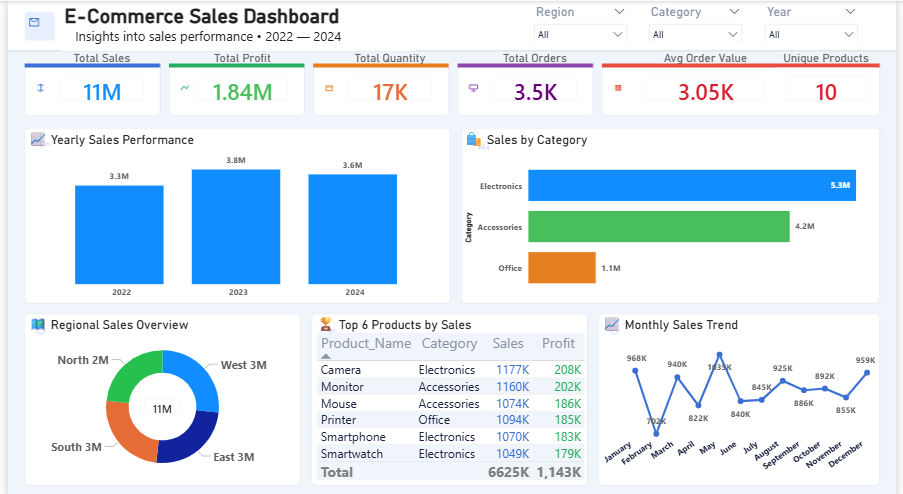

The page's visual inventory and layout, read from the dashboard file:
{"tool":"powerbi","page":{"name":"Page 1","canvas":[1280,720],"ordinal":0},"visuals":[{"type":"cardVisual","title":"Total Profit","fields":{"Data":["Sum(ecommerce_sales_data.Profit)"]},"box":[254.9,72,165.6,89.3],"z":0},{"type":"cardVisual","title":"Total Quantity","fields":{"Data":["Sum(ecommerce_sales_data.Quantity)"]},"box":[472.3,72,155.5,89.3],"z":1000},{"type":"cardVisual","title":"Total Orders","fields":{"Data":["CountNonNull(ecommerce_sales_data.Order Date)"]},"box":[681.1,72,155.5,89.3],"z":2000},{"type":"cardVisual","title":"Unique Products ","fields":{"Data":["Count(ecommerce_sales_data.Product Name)"]},"box":[1101.6,72,152.6,89.3],"z":3000},{"type":"cardVisual","title":"Avg Order Value","fields":{"Data":["ecommerce_sales_data.Avg Order Value"]},"box":[901.4,72,205.9,89.3],"z":4000},{"type":"clusteredColumnChart","title":"📈 Yearly Sales Performance","fields":{"Y":["Sum(ecommerce_sales_data.Sales)"],"Category":["ecommerce_sales_data.Year.1"]},"box":[24.5,184.3,614.9,253.4],"z":5000},{"type":"clusteredBarChart","title":"🛍️ Sales by Category","fields":{"Y":["Sum(ecommerce_sales_data.Sales)"],"Category":["ecommerce_sales_data.Category"]},"box":[652.3,184.3,601.9,253.4],"z":6000},{"type":"tableEx","title":"🏆 Top 6 Products by Sales","fields":{"Values":["ecommerce_sales_data.Product Name","ecommerce_sales_data.Category","Sum(ecommerce_sales_data.Sales)","Sum(ecommerce_sales_data.Profit)"]},"box":[439.2,450.7,397.4,244.8],"z":7000},{"type":"group","id":"g1","title":"Group 1","box":[24.5,450.7,396,244.8],"z":8000},{"type":"donutChart","title":" 🗺️ Regional Sales Overview","fields":{"Category":["ecommerce_sales_data.Region"],"Y":["Sum(ecommerce_sales_data.Sales)"]},"box":[24.5,450.7,396,244.8],"z":9000,"group":"g1"},{"type":"cardVisual","fields":{"Data":["Sum(ecommerce_sales_data.Sales)"]},"box":[178.6,555.8,87.8,57.6],"z":9000},{"type":"lineChart","title":" 📈 Monthly Sales Trend","fields":{"Category":["ecommerce_sales_data.Order Date.Variation.Date Hierarchy.Month"],"Y":["Sum(ecommerce_sales_data.Sales)"]},"box":[851,450.7,403.2,244.8],"z":10000},{"type":"textbox","box":[76.3,0,511.2,72],"z":11000},{"type":"slicer","fields":{"Values":["ecommerce_sales_data.Region"]},"box":[747.4,0,154.1,59],"z":12000},{"type":"slicer","fields":{"Values":["ecommerce_sales_data.Category"]},"box":[913,0,154.1,59],"z":13000},{"type":"slicer","fields":{"Values":["ecommerce_sales_data.Year"]},"box":[1080,0,154.1,59],"z":14000},{"type":"cardVisual","title":"Total Sales","fields":{"Data":["Sum(ecommerce_sales_data.Sales)"]},"box":[57.6,72,155.5,89.3],"z":15000}]}

Visuals, with their boxes in screenshot pixels (x1, y1, x2, y2), scaled from the page's 1280x720 canvas onto the 903x494 screenshot:
"Total Profit" cardVisual: [left=180, top=49, right=297, bottom=111]
"Total Quantity" cardVisual: [left=333, top=49, right=443, bottom=111]
"Total Orders" cardVisual: [left=480, top=49, right=590, bottom=111]
"Unique Products " cardVisual: [left=777, top=49, right=885, bottom=111]
"Avg Order Value" cardVisual: [left=636, top=49, right=781, bottom=111]
"📈 Yearly Sales Performance" clusteredColumnChart: [left=17, top=126, right=451, bottom=300]
"🛍️ Sales by Category" clusteredBarChart: [left=460, top=126, right=885, bottom=300]
"🏆 Top 6 Products by Sales" tableEx: [left=310, top=309, right=590, bottom=477]
"Group 1" group: [left=17, top=309, right=297, bottom=477]
" 🗺️ Regional Sales Overview" donutChart: [left=17, top=309, right=297, bottom=477]
cardVisual - Sum(ecommerce_sales_data.Sales): [left=126, top=381, right=188, bottom=421]
" 📈 Monthly Sales Trend" lineChart: [left=600, top=309, right=885, bottom=477]
textbox: [left=54, top=0, right=414, bottom=49]
slicer - ecommerce_sales_data.Region: [left=527, top=0, right=636, bottom=40]
slicer - ecommerce_sales_data.Category: [left=644, top=0, right=753, bottom=40]
slicer - ecommerce_sales_data.Year: [left=762, top=0, right=871, bottom=40]
"Total Sales" cardVisual: [left=41, top=49, right=150, bottom=111]
